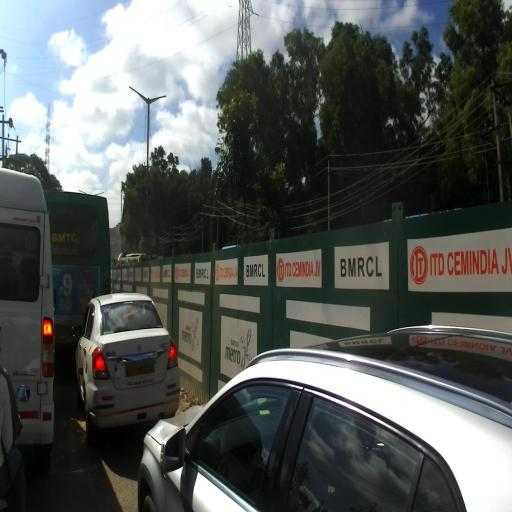street_light_0: (129, 86, 150, 107), (146, 95, 166, 106), (94, 192, 105, 196), (78, 190, 88, 194)
